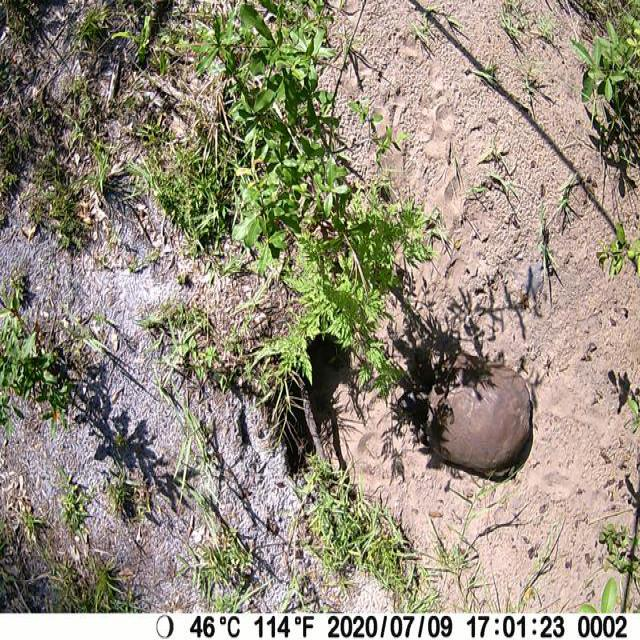tortoise: (397, 356, 533, 481)
